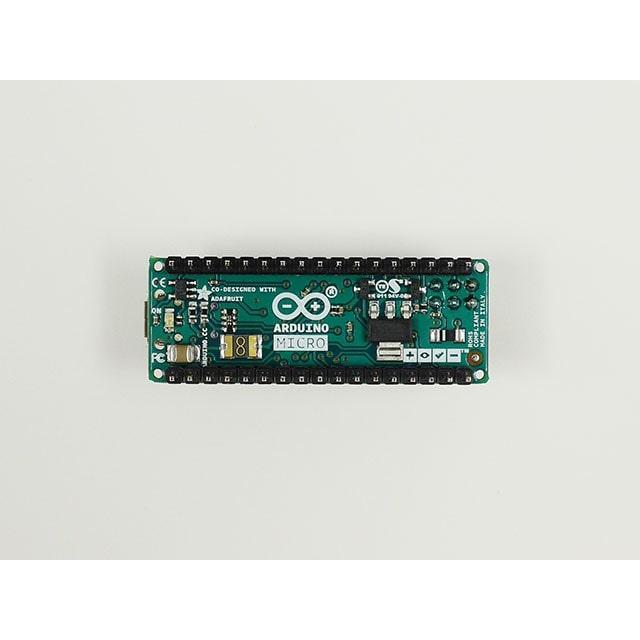Arduino-Micro: (145, 257, 490, 385)
